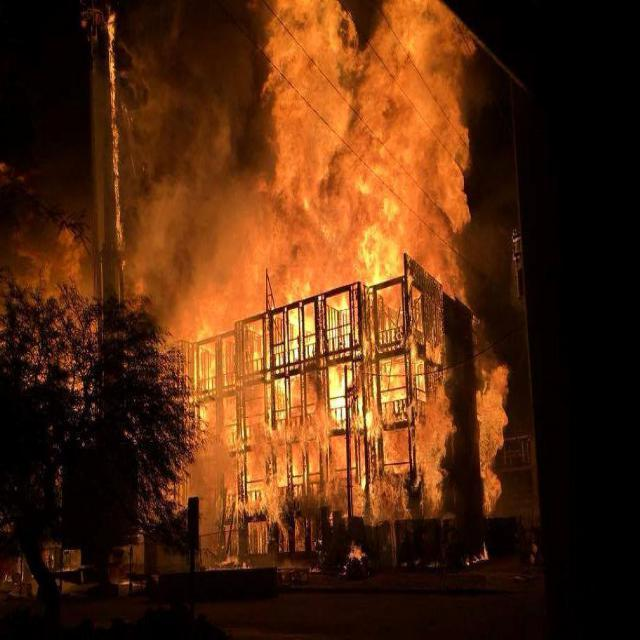Fire: (192, 1, 472, 562)
Smoke: (114, 9, 228, 302)
